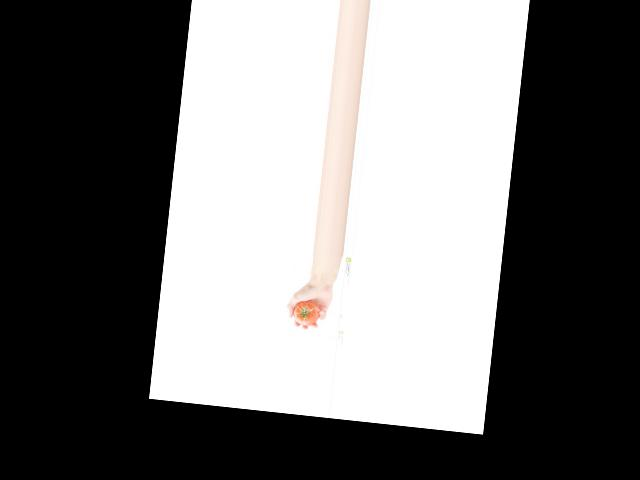tomato: (292, 299, 321, 327)
